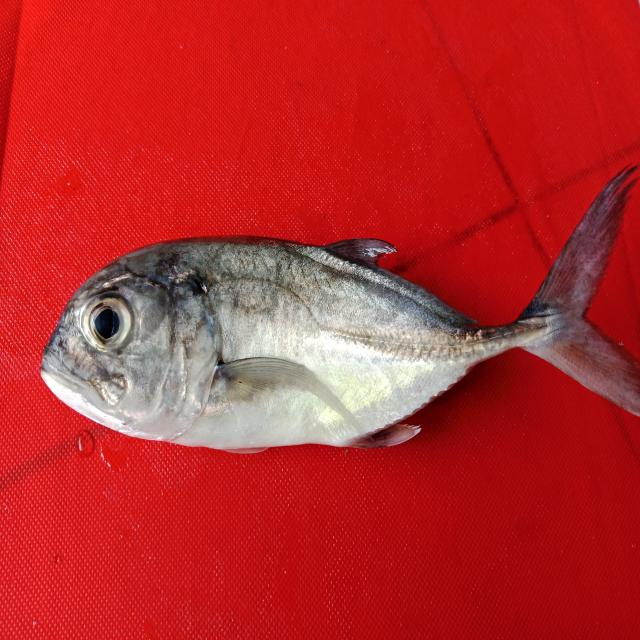ikan: (39, 162, 639, 453)
